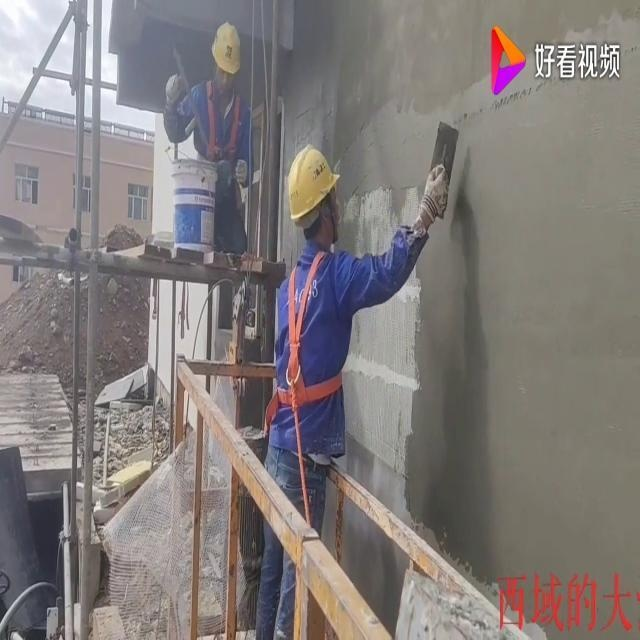Arnes_seguridad: (268, 235, 348, 416), (199, 76, 246, 173)
